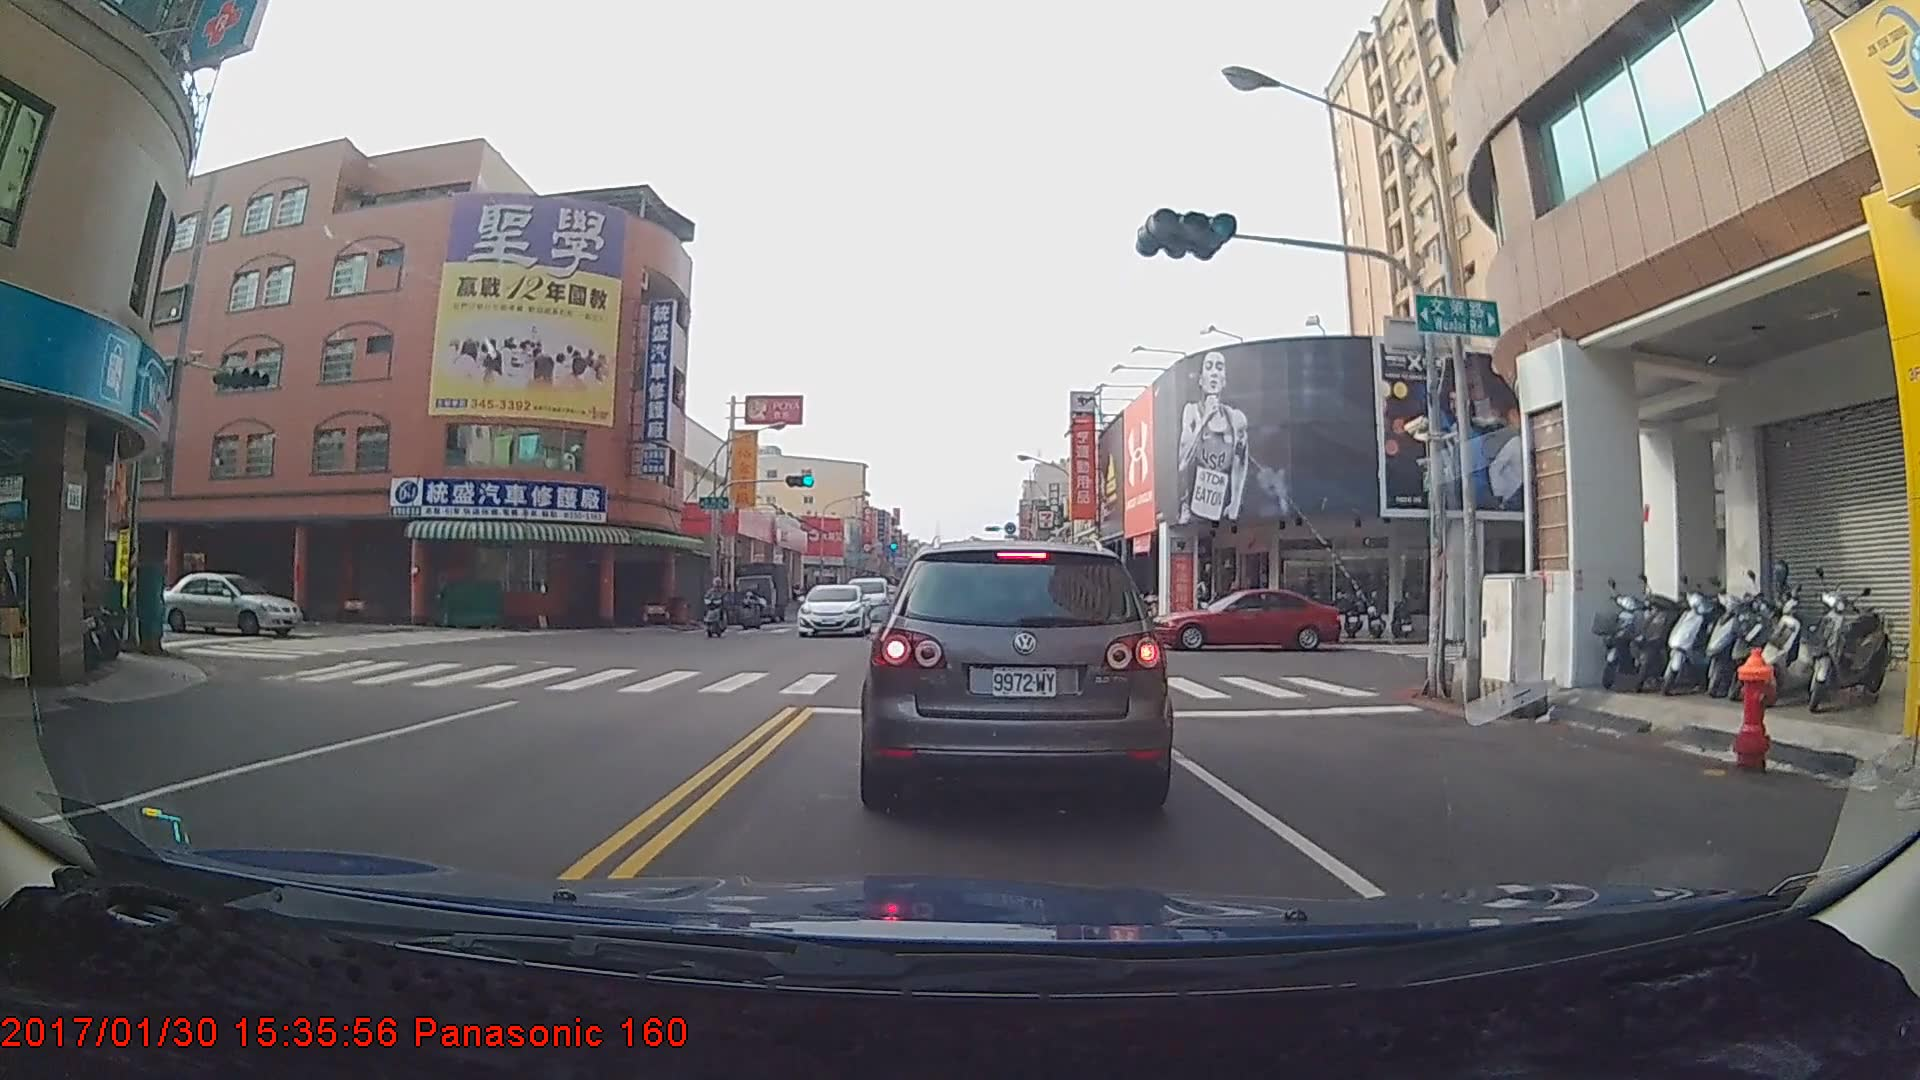rider: (736, 577, 773, 631), (700, 575, 729, 641)
vehicle: (868, 532, 1168, 808), (1149, 589, 1342, 654), (152, 568, 303, 635), (796, 583, 872, 639), (731, 561, 788, 624)
